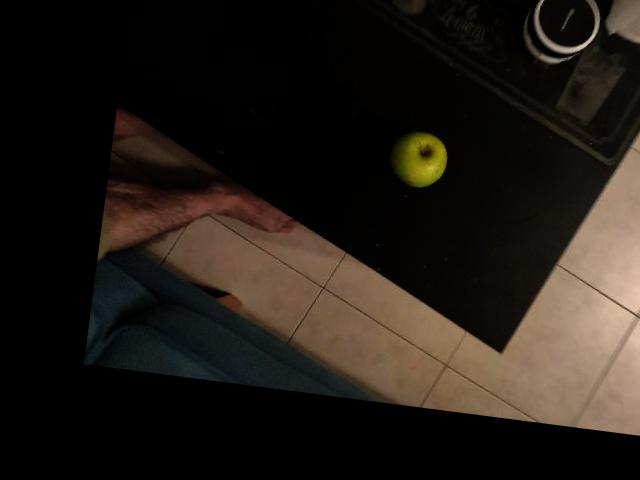apple: (386, 126, 458, 199)
